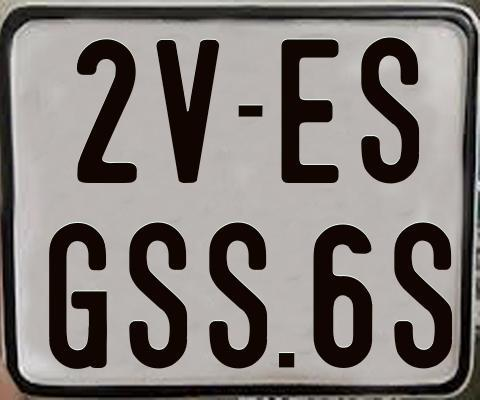2: (77, 36, 141, 185)
6: (310, 223, 373, 370)
E: (280, 38, 338, 183)
G: (46, 222, 109, 370)
S: (392, 220, 456, 372), (126, 222, 188, 373), (206, 221, 264, 374), (360, 36, 418, 183)
V: (153, 38, 218, 182)
